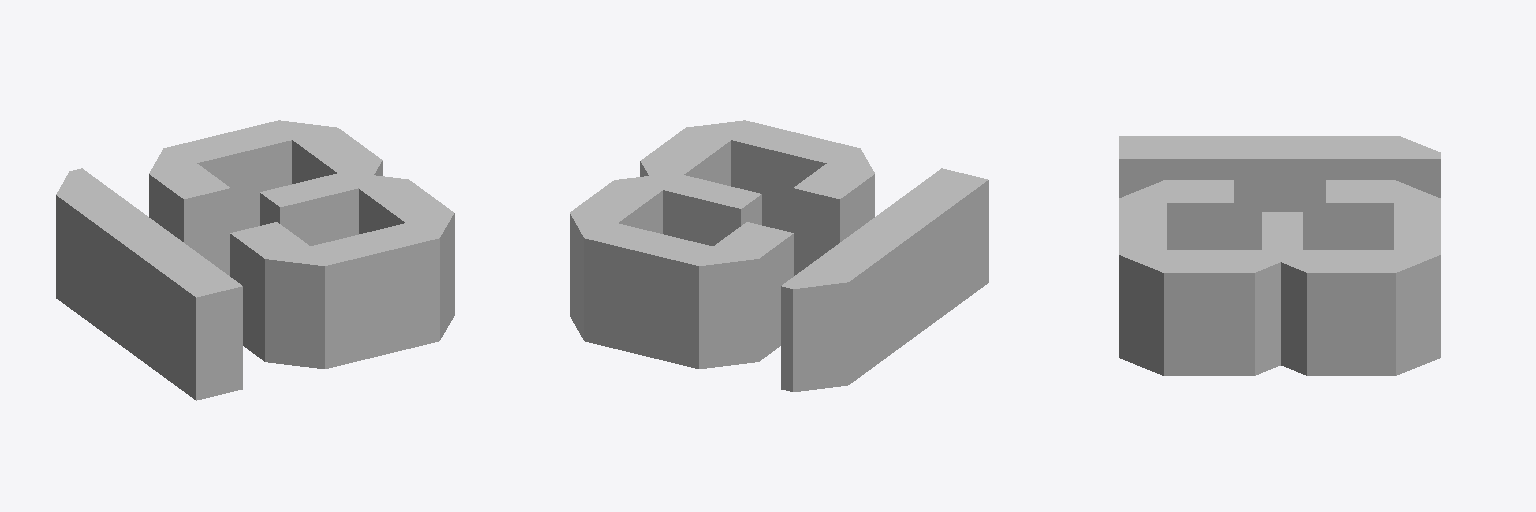
File: date_13.obj
3 views of the same model, side by side, from view 1: azimuth 30°, elevation 25°; view 2: azimuth 150°, elevation 25°; view 3: azimuth 270°, elevation 25° (orthographic).
Parts seen in each view (by area): view 1: Text; view 2: Text; view 3: Text.
Boxes of the visible parts, x1,y1,x2,y2 form: Text: [56, 120, 454, 400]; Text: [570, 120, 988, 391]; Text: [1119, 136, 1440, 375].
Size of the model in its own units: 0.5696 by 0.2 by 0.5663.